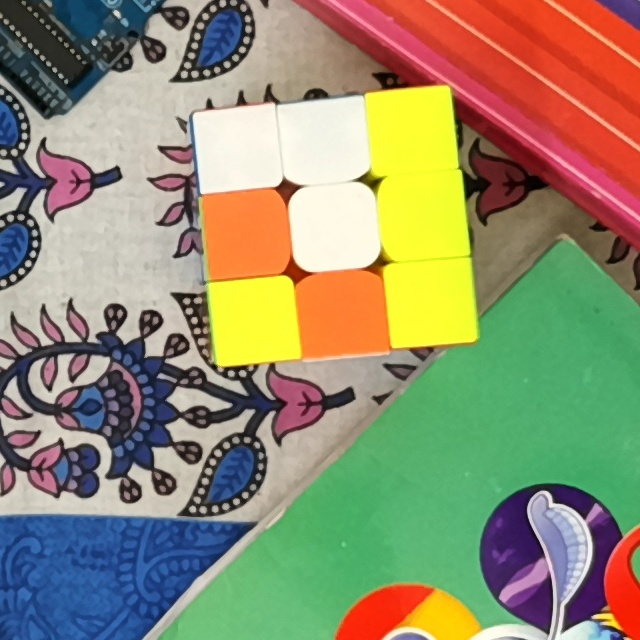tile: (390, 270, 469, 339), (208, 199, 282, 271), (375, 95, 451, 165), (387, 181, 460, 253), (199, 115, 274, 182), (217, 286, 292, 352), (305, 282, 380, 347), (297, 195, 371, 260), (289, 108, 360, 172)
